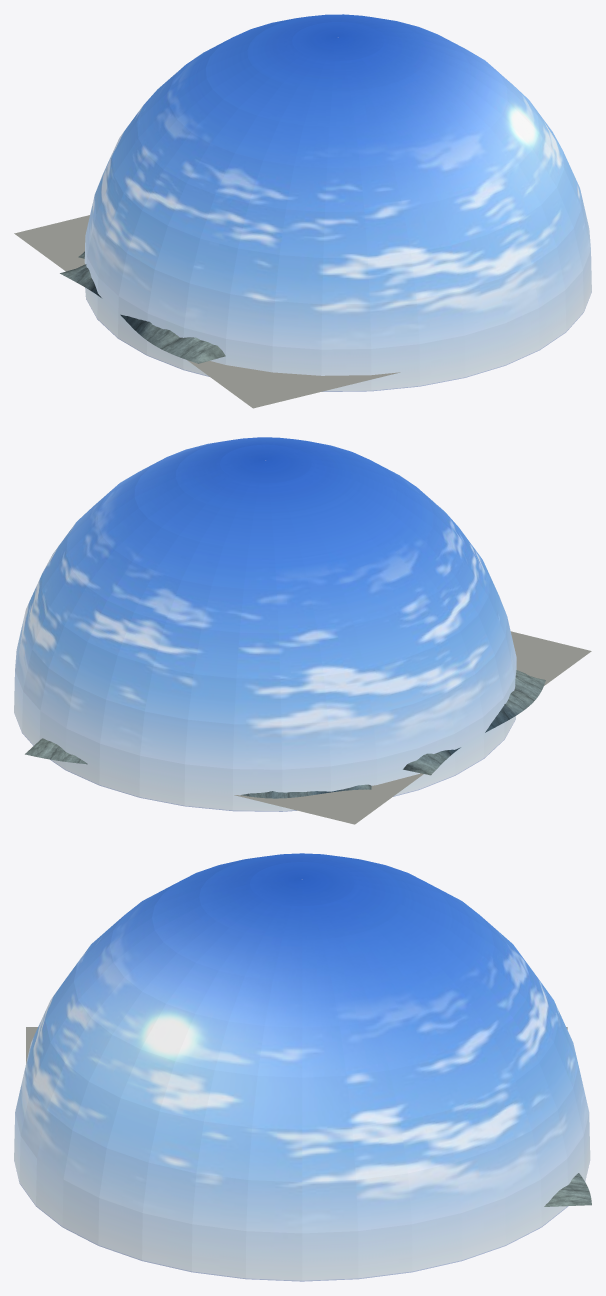
File: lugar-salonica-ciudad.glb
3 views of the same model, one above another, from view 1: azimuth 30°, elevation 25°; view 2: azimuth 150°, elevation 25°; view 3: azimuth 270°, elevation 25° (orthographic). The views are drawn at different scales.
Parts seen in each view (by area): view 1: planoC, vertT; view 2: planoC, vertT; view 3: planoC, vertT.
Boxes of the visible parts, <box> form: planoC: <box>14,14,591,408</box>; vertT: <box>60,251,225,363</box>; planoC: <box>14,437,591,824</box>; vertT: <box>25,670,545,798</box>; planoC: <box>14,853,590,1281</box>; vertT: <box>544,1173,591,1206</box>.
Bounding box in the file's own units: 6464 × 3423 × 6402.
30 materials, 27 textured.
